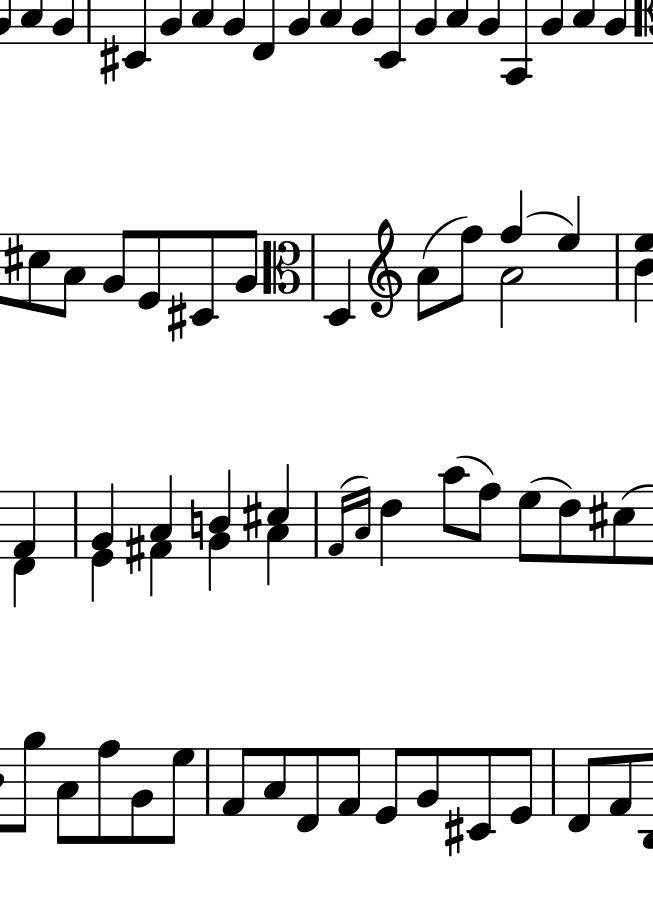4_-1_1: (12, 489, 37, 608)
4_-2: (322, 232, 354, 328)
4_0_2: (90, 484, 115, 604)
4_1_3: (148, 475, 174, 601)
4_2_4: (207, 469, 231, 591)
4_3_5: (266, 464, 291, 588)
4_6: (378, 489, 403, 568)
4_7: (555, 193, 583, 302)
8_-1: (565, 746, 599, 835), (294, 746, 322, 836)
8_-2: (189, 228, 219, 327), (467, 746, 496, 841)
8_0: (372, 746, 406, 827), (134, 228, 164, 314), (507, 746, 536, 827)
8_1: (220, 746, 252, 818), (335, 746, 362, 819), (608, 747, 633, 818)
8_10: (439, 466, 465, 561)
8_2: (128, 746, 155, 846), (100, 228, 134, 304), (227, 228, 259, 303), (414, 746, 441, 818)
8_3: (55, 232, 86, 321), (53, 746, 80, 846), (414, 232, 440, 322), (261, 746, 288, 818)
8_5: (26, 231, 50, 314), (610, 489, 636, 565)
8_6: (556, 490, 581, 565)
8_7: (161, 747, 196, 846), (517, 489, 542, 565)
8_8: (93, 736, 121, 847), (452, 223, 484, 306), (471, 481, 503, 561)
8_9: (10, 730, 45, 834)
Cclef: (261, 231, 306, 302)
Gclef: (366, 217, 402, 318)
Natural: (188, 497, 205, 553)
Sharp: (239, 490, 264, 544), (587, 491, 610, 544), (123, 525, 145, 578), (2, 232, 23, 286), (443, 806, 464, 858), (99, 33, 120, 85), (166, 292, 187, 343)
Single_barline: (67, 490, 83, 558), (610, 234, 626, 299), (309, 491, 324, 557), (547, 750, 561, 816), (306, 235, 320, 300)
Slur: (419, 215, 468, 261), (525, 210, 572, 226), (458, 455, 494, 474), (534, 474, 570, 490), (341, 474, 368, 489)
